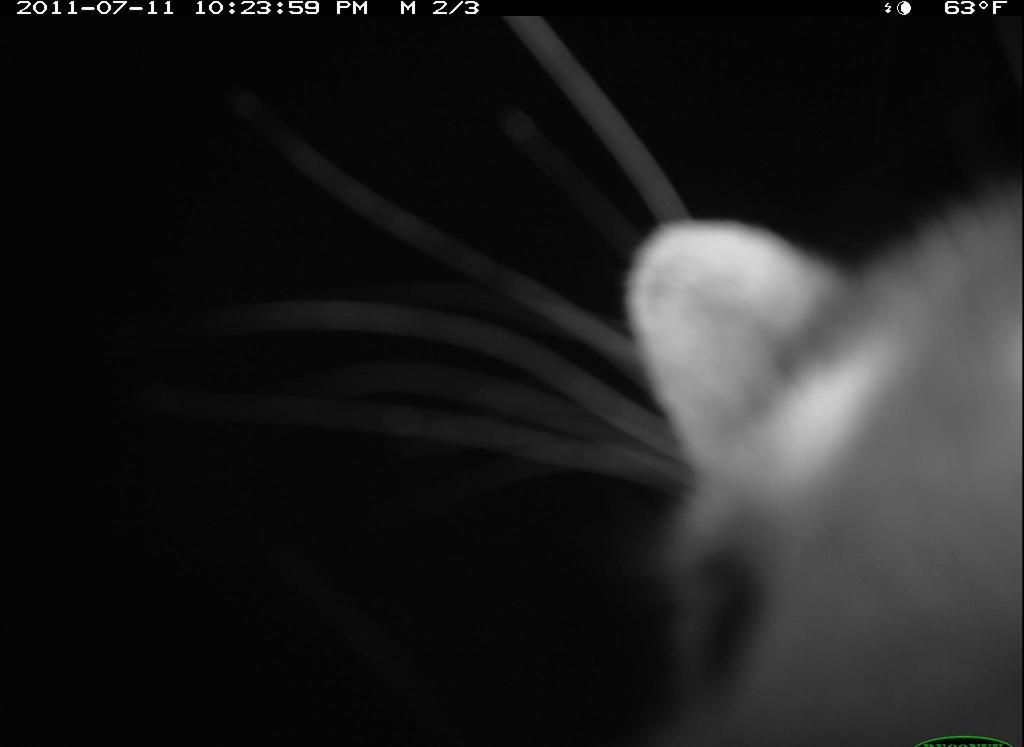raccoon: (607, 169, 1024, 747)
